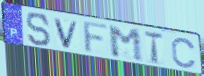C: (171, 37, 198, 70)
F: (82, 20, 111, 56)
M: (107, 25, 146, 64)
S: (25, 12, 52, 48)
T: (144, 30, 165, 66)
V: (53, 18, 81, 51)
